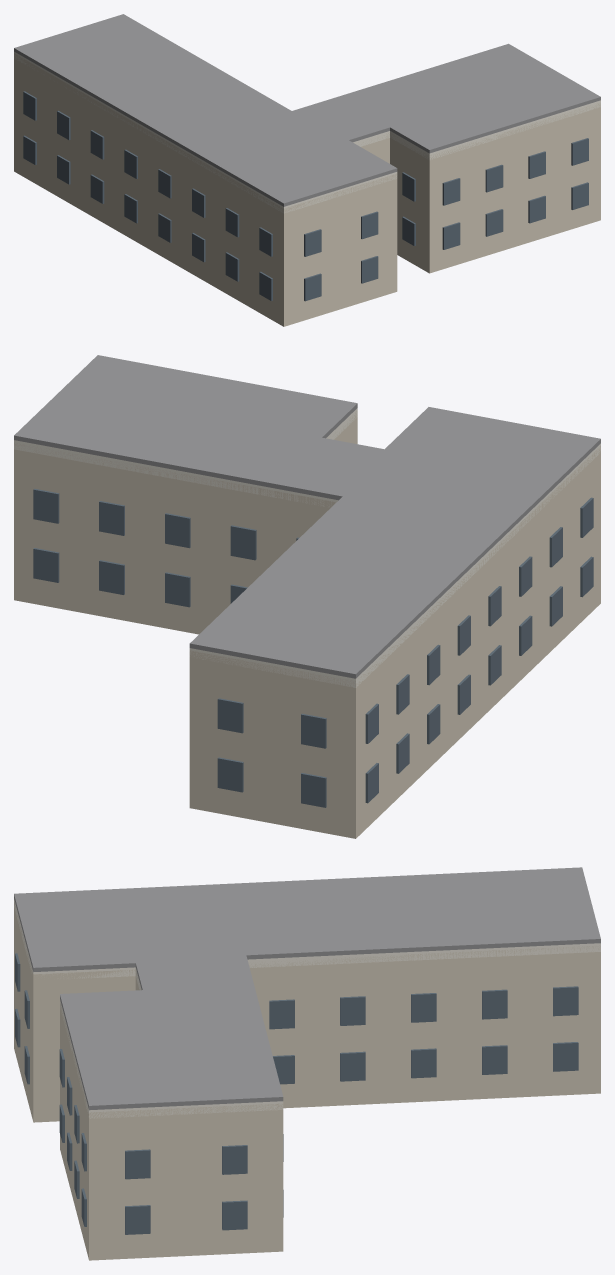
Rendered from s47_gis_248154_820664.glb.
3 renders of one model, top to bottom at view 1: azimuth 30°, elevation 25°; view 2: azimuth 150°, elevation 25°; view 3: azimuth 270°, elevation 25°, orthographic. The views are drawn at different scales.
Parts seen in each view (by area): view 1: mass, roofcap, cornice, win_5_0_0, win_5_1_0, win_5_0_1, win_5_1_1, win_1_0_0, win_1_0_1, win_1_1_0, win_5_0_2, win_5_0_3 (+3 smaller); view 2: mass, roofcap, cornice, win_7_1_0, win_9_0_0, win_9_1_0, win_7_1_3, win_7_0_0, win_7_0_1, win_7_0_2, win_7_1_2, win_7_1_1 (+2 smaller); view 3: mass, roofcap, cornice, win_6_0_1, win_6_1_0, win_8_0_2, win_8_1_0, win_8_0_1, win_8_1_3, win_8_1_4, win_6_0_0, win_6_1_1 (+5 smaller).
Boxes of the visible parts, left/top/right/bottom form: mass: left=14, top=53, right=600, bottom=326; roofcap: left=14, top=14, right=600, bottom=206; cornice: left=14, top=51, right=600, bottom=213; win_5_0_0: left=442, top=222, right=460, bottom=249; win_5_1_0: left=442, top=178, right=460, bottom=205; win_5_0_1: left=485, top=209, right=503, bottom=236; win_5_1_1: left=485, top=164, right=503, bottom=192; win_1_0_0: left=304, top=273, right=321, bottom=301; win_1_0_1: left=361, top=256, right=378, bottom=283; win_1_1_0: left=304, top=229, right=321, bottom=256; win_5_0_2: left=528, top=195, right=545, bottom=223; win_5_0_3: left=571, top=182, right=588, bottom=209; mass: left=14, top=411, right=600, bottom=838; roofcap: left=14, top=355, right=600, bottom=678; cornice: left=14, top=408, right=600, bottom=687; win_7_1_0: left=33, top=488, right=59, bottom=523; win_9_0_0: left=217, top=757, right=243, bottom=792; win_9_1_0: left=217, top=698, right=243, bottom=733; win_7_1_3: left=230, top=525, right=256, bottom=560; win_7_0_0: left=33, top=548, right=59, bottom=582; win_7_0_1: left=99, top=560, right=124, bottom=594; win_7_0_2: left=165, top=572, right=190, bottom=607; win_7_1_2: left=165, top=513, right=190, bottom=548; win_7_1_1: left=99, top=501, right=124, bottom=535; mass: left=14, top=902, right=600, bottom=1260; roofcap: left=14, top=867, right=600, bottom=1110; cornice: left=14, top=899, right=600, bottom=1118; win_6_0_1: left=222, top=1200, right=247, bottom=1230; win_6_1_0: left=125, top=1149, right=150, bottom=1179; win_8_0_2: left=411, top=1048, right=436, bottom=1078; win_8_1_0: left=269, top=999, right=294, bottom=1029; win_8_0_1: left=340, top=1051, right=365, bottom=1081; win_8_1_3: left=482, top=989, right=507, bottom=1019; win_8_1_4: left=553, top=986, right=578, bottom=1016; win_6_0_0: left=125, top=1205, right=150, bottom=1234; win_6_1_1: left=222, top=1145, right=247, bottom=1174.
Size of the model in its own units: 27.62 by 8.35 by 28.72.
